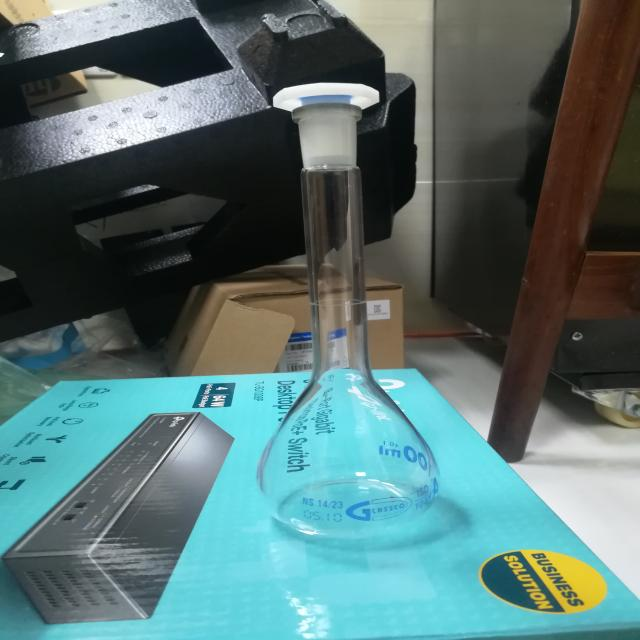Volumetric_Flask: (228, 32, 496, 554)
